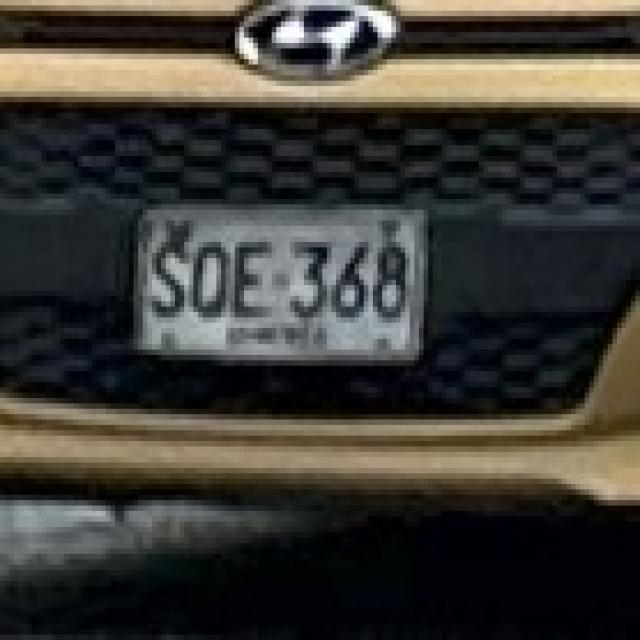number plate: (131, 205, 427, 355)
